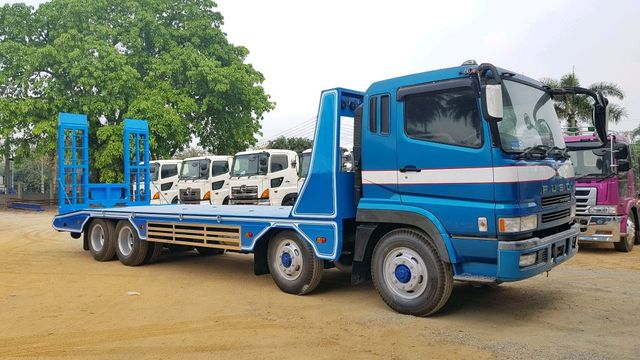truck: (354, 60, 579, 315)
